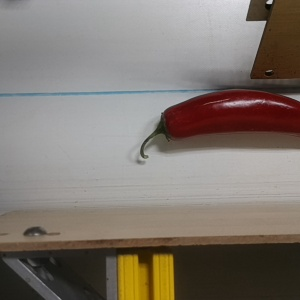Cut Point: (152, 105, 185, 142)
